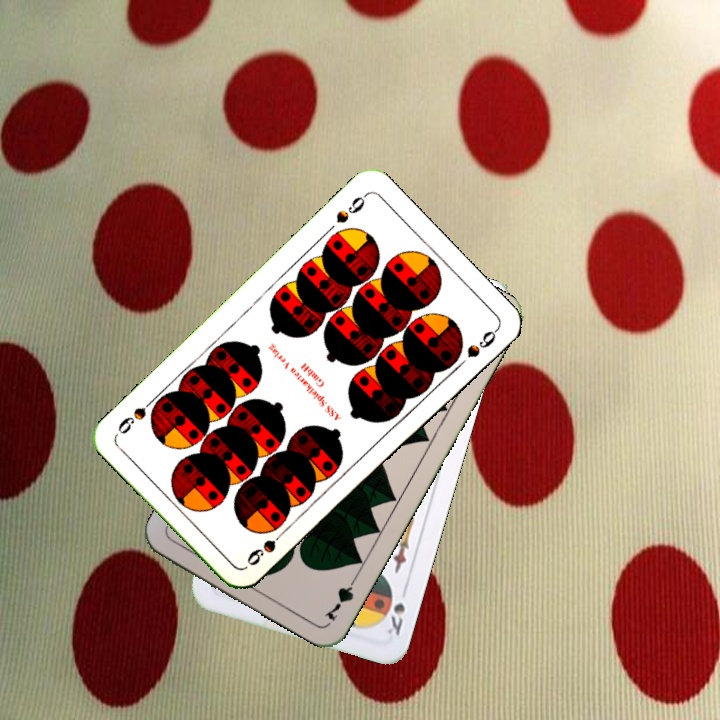G7: (320, 570, 361, 624)
S9: (242, 525, 290, 569), (332, 190, 370, 226)
SK: (383, 582, 410, 638)
